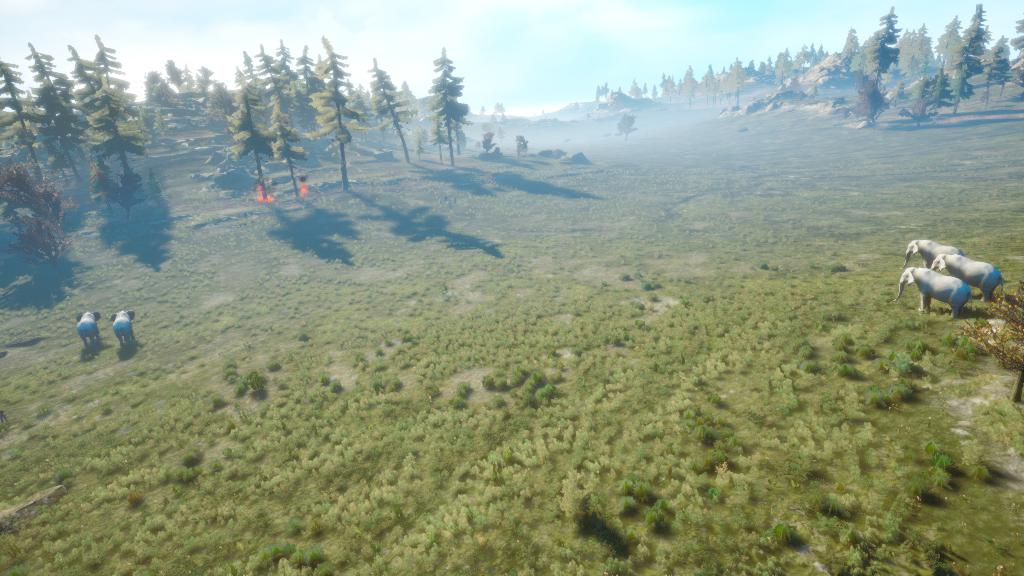Fire: (252, 180, 278, 211), (291, 177, 314, 207)
elephant: (891, 265, 976, 326), (929, 251, 1005, 306), (899, 236, 965, 277), (64, 306, 105, 354), (107, 306, 144, 355)
